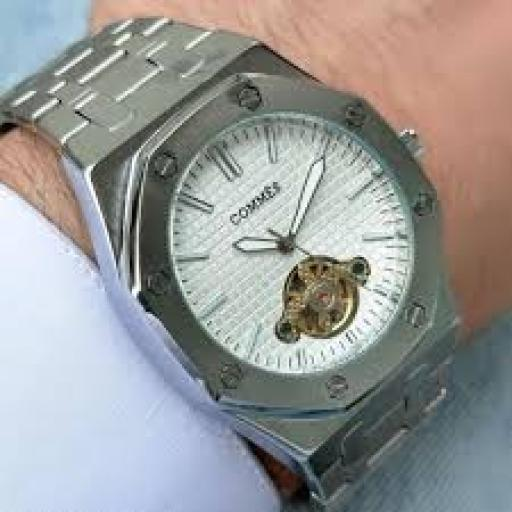KolSaati: (0, 10, 490, 482)
